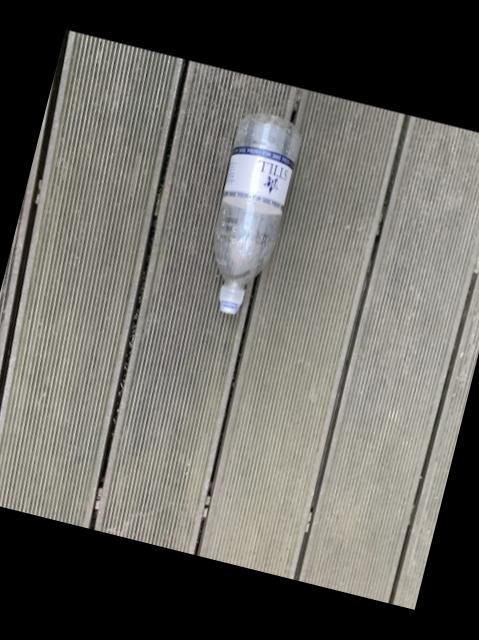plastic: (214, 113, 299, 312)
